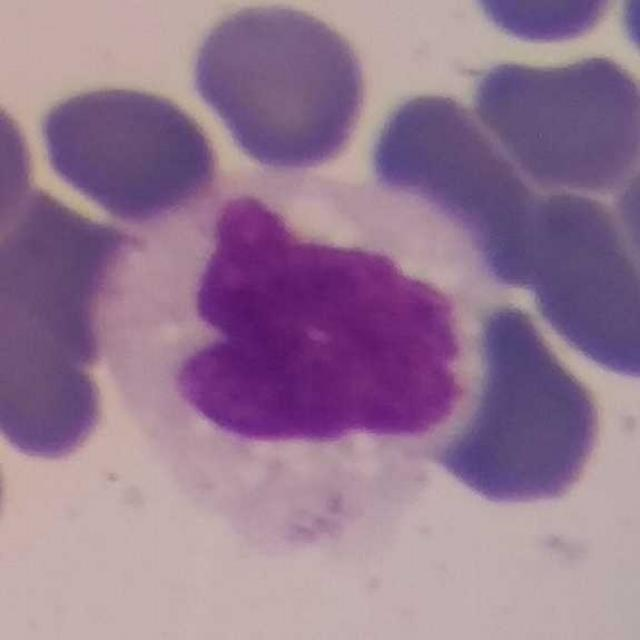Monocyte: (82, 170, 490, 547)
RBC: (432, 307, 606, 512), (183, 0, 376, 177), (31, 74, 226, 228), (380, 95, 535, 279), (464, 39, 640, 201), (504, 185, 640, 382), (2, 191, 126, 347), (0, 308, 108, 466), (0, 84, 39, 258), (477, 0, 611, 39), (612, 133, 640, 306)
